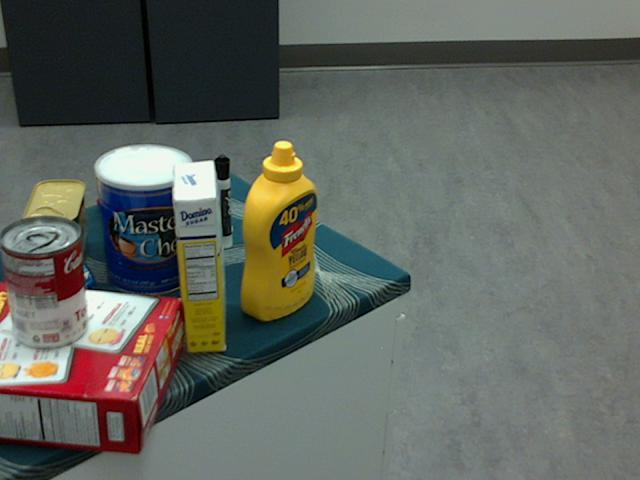cracker_box: (0, 279, 182, 454)
large_marker: (214, 154, 232, 247)
master_chef_can: (92, 144, 193, 297)
mug: (95, 145, 186, 229)
mustard_bottle: (239, 139, 317, 320)
potted_meat_can: (23, 178, 87, 284)
sugar_box: (171, 158, 226, 353)
tomato_soup_can: (0, 216, 87, 349)
tuna_fish_can: (5, 246, 95, 333)
